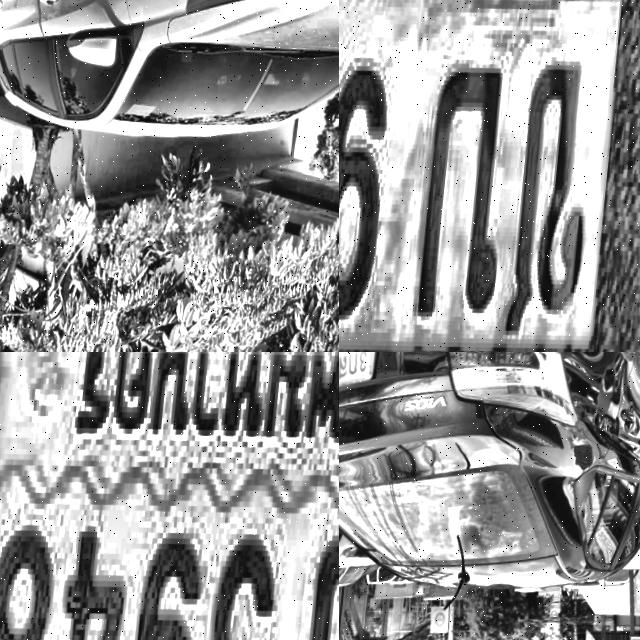license-plate: (339, 0, 640, 352), (0, 352, 339, 640), (339, 352, 379, 409)
